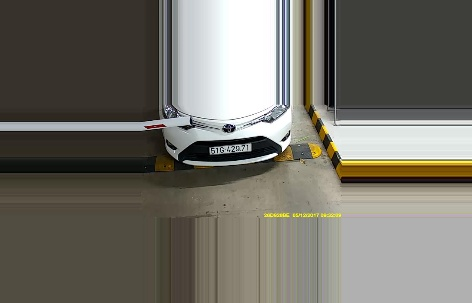plate: (206, 140, 253, 155)
